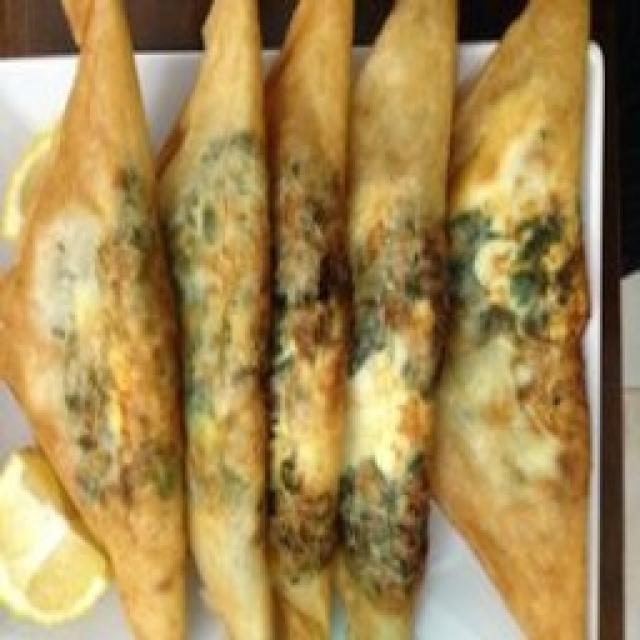Brik: (0, 0, 595, 640)
